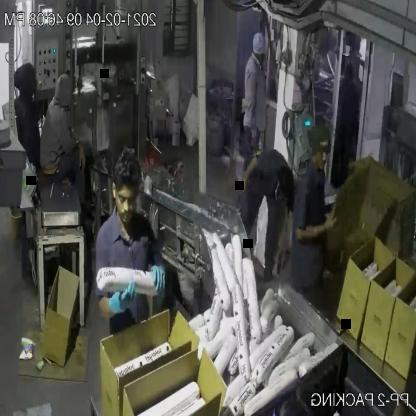glove: (106, 275, 144, 325), (148, 258, 169, 296)
no_glove: (294, 198, 344, 248), (238, 149, 260, 201), (244, 63, 258, 144), (70, 133, 91, 182)
